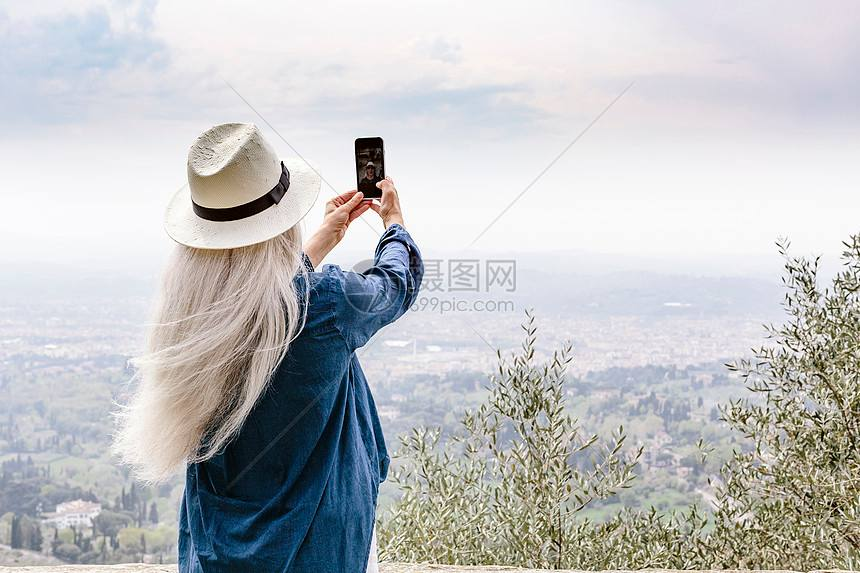taking photos: (316, 129, 410, 240)
